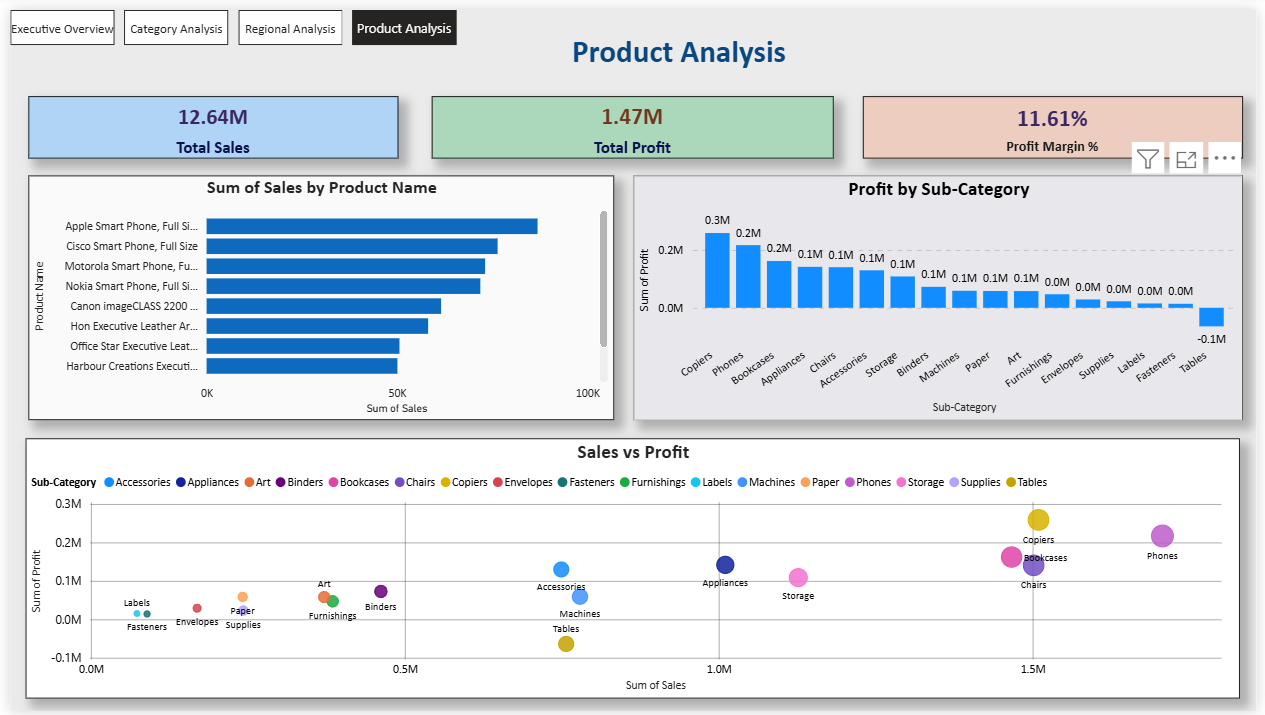

This screenshot's page, from the dashboard's own definition file:
{"tool":"powerbi","page":{"name":"Product Analysis","canvas":[1280,720],"ordinal":3},"visuals":[{"type":"card","fields":{"Values":["Sum(Orders.Sales)"]},"box":[18.6,88.6,380,64.3],"z":0},{"type":"card","fields":{"Values":["Orders.Profit Margin %"]},"box":[875.7,88.6,390,64.3],"z":1000},{"type":"textbox","box":[378.6,18.6,525.7,50],"z":2000},{"type":"clusteredBarChart","fields":{"Category":["Orders.Product Name"],"Y":["Sum(Orders.Sales)"]},"box":[18.6,170,601.4,251.4],"z":3000},{"type":"clusteredColumnChart","title":"Profit by Sub-Category","fields":{"Category":["Orders.Sub-Category"],"Y":["Sum(Orders.Profit)"]},"box":[640,170,625.7,251.4],"z":4000},{"type":"scatterChart","title":"Sales vs Profit","fields":{"X":["Sum(Orders.Sales)"],"Y":["Sum(Orders.Profit)"],"Size":["Sum(Orders.Sales)"],"Series":["Orders.Sub-Category"]},"box":[15.7,440,1247.1,267.1],"z":5000},{"type":"card","fields":{"Values":["Sum(Orders.Profit)"]},"box":[432.9,88.6,412.9,64.3],"z":6000},{"type":"pageNavigator","box":[0,0,460,36.7],"z":6001}]}

Visuals, with their boxes in screenshot pixels (x1, y1, x2, y2), scaled from the page's 1280x720 canvas onto the 1265x715 screenshot:
card - Sum(Orders.Sales): {"x1": 18, "y1": 88, "x2": 394, "y2": 152}
card - Orders.Profit Margin %: {"x1": 865, "y1": 88, "x2": 1251, "y2": 152}
textbox: {"x1": 374, "y1": 18, "x2": 894, "y2": 68}
clusteredBarChart - Orders.Product Name x Sum(Orders.Sales): {"x1": 18, "y1": 169, "x2": 613, "y2": 418}
"Profit by Sub-Category" clusteredColumnChart: {"x1": 632, "y1": 169, "x2": 1251, "y2": 418}
"Sales vs Profit" scatterChart: {"x1": 16, "y1": 437, "x2": 1248, "y2": 702}
card - Sum(Orders.Profit): {"x1": 428, "y1": 88, "x2": 836, "y2": 152}
pageNavigator: {"x1": 0, "y1": 0, "x2": 455, "y2": 36}
